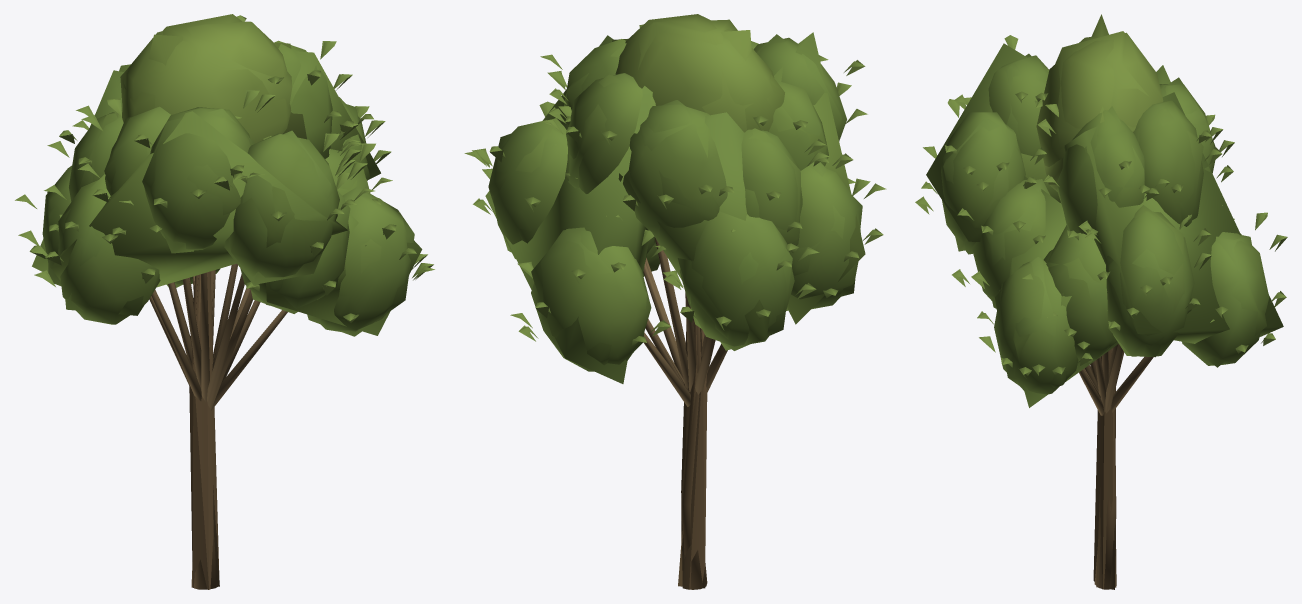
Rendered from Sapling.baseline.glb.
The picture shows the model from 3 angles, left to right: view 1: azimuth 30°, elevation 25°; view 2: azimuth 150°, elevation 25°; view 3: azimuth 270°, elevation 25°; orthographic projection. The views are drawn at different scales.
Parts seen in each view (by area): view 1: Sapling_L0, Sapling_L2, Sapling_L1; view 2: Sapling_L0, Sapling_L2, Sapling_L1; view 3: Sapling_L0, Sapling_L2, Sapling_L1.
Part boxes in pixels (x1=…): Sapling_L0: x1=15, y1=15, x2=434, y2=589; Sapling_L2: x1=32, y1=34, x2=422, y2=589; Sapling_L1: x1=15, y1=14, x2=433, y2=587; Sapling_L0: x1=465, y1=14, x2=885, y2=589; Sapling_L2: x1=485, y1=30, x2=865, y2=589; Sapling_L1: x1=466, y1=19, x2=883, y2=588; Sapling_L0: x1=915, y1=32, x2=1287, y2=589; Sapling_L2: x1=926, y1=14, x2=1283, y2=589; Sapling_L1: x1=915, y1=31, x2=1287, y2=589.
Bounding box in the file's own units: 2.8 × 4.04 × 2.5.
